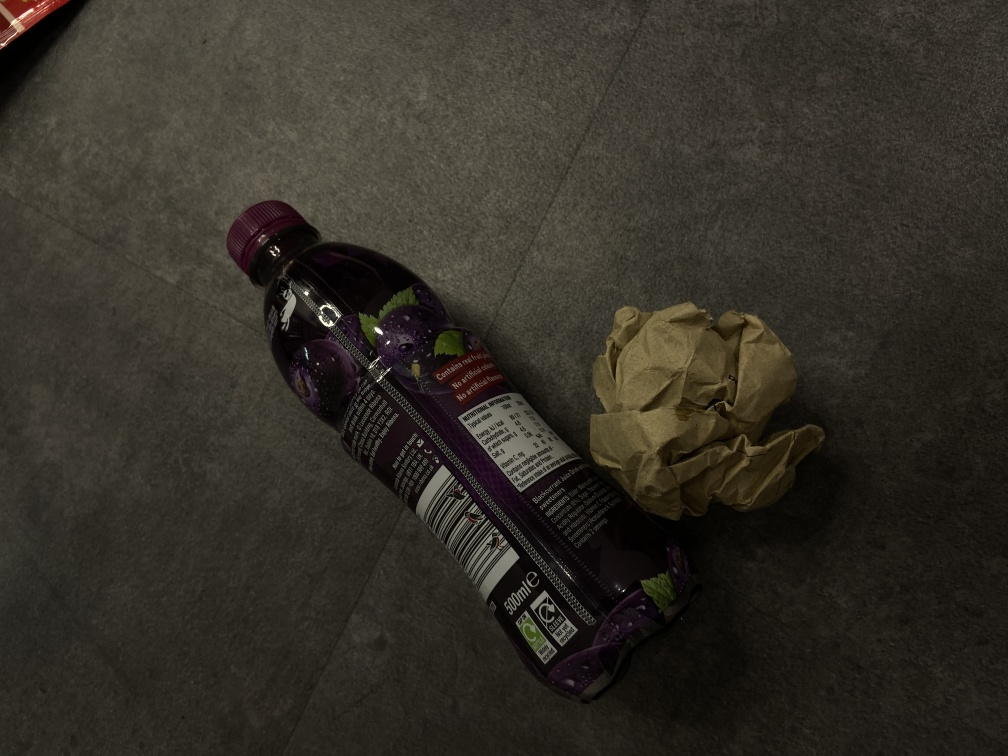bottle_purple: (224, 192, 701, 703)
paper_brown: (588, 302, 832, 527)
